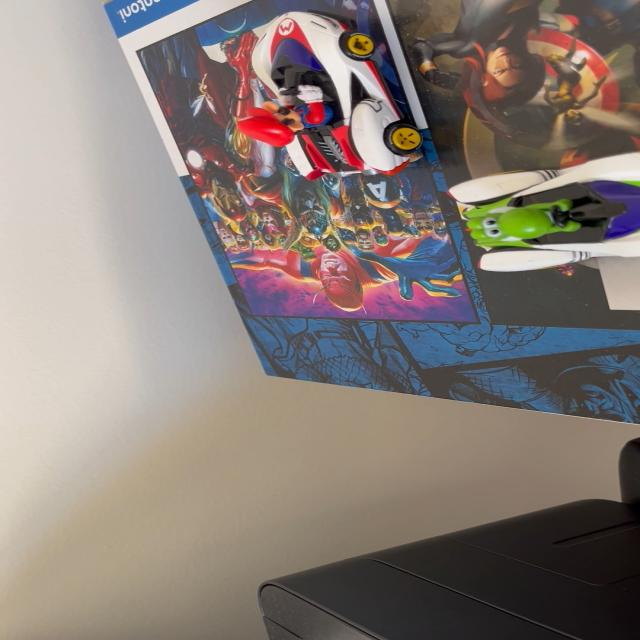mario: (225, 6, 439, 191)
yoshi: (439, 153, 640, 290)
